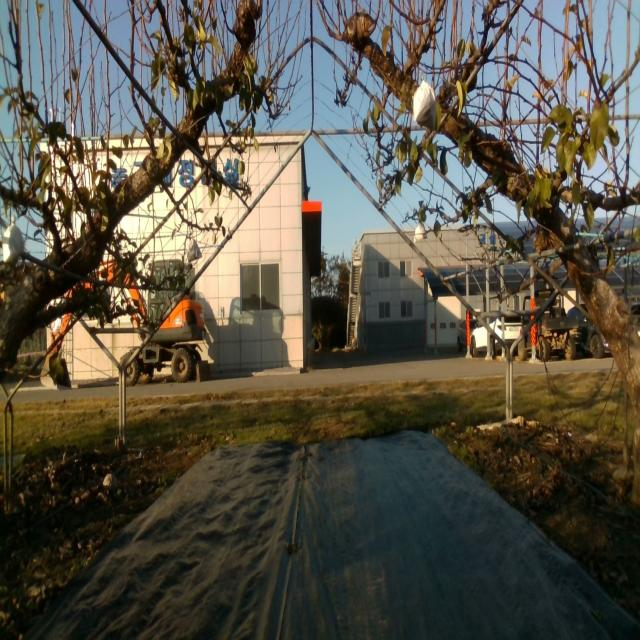pearbags: (2, 215, 26, 268), (414, 80, 437, 126), (186, 237, 203, 263), (414, 222, 428, 243)
